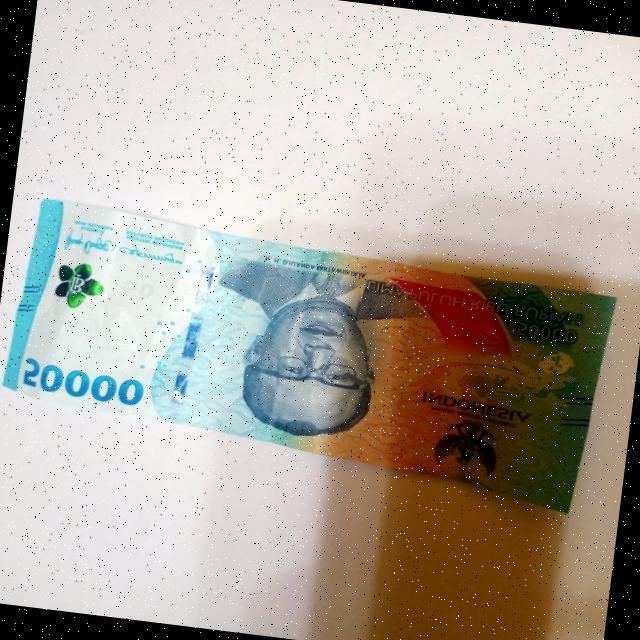50K: (0, 184, 640, 522)
